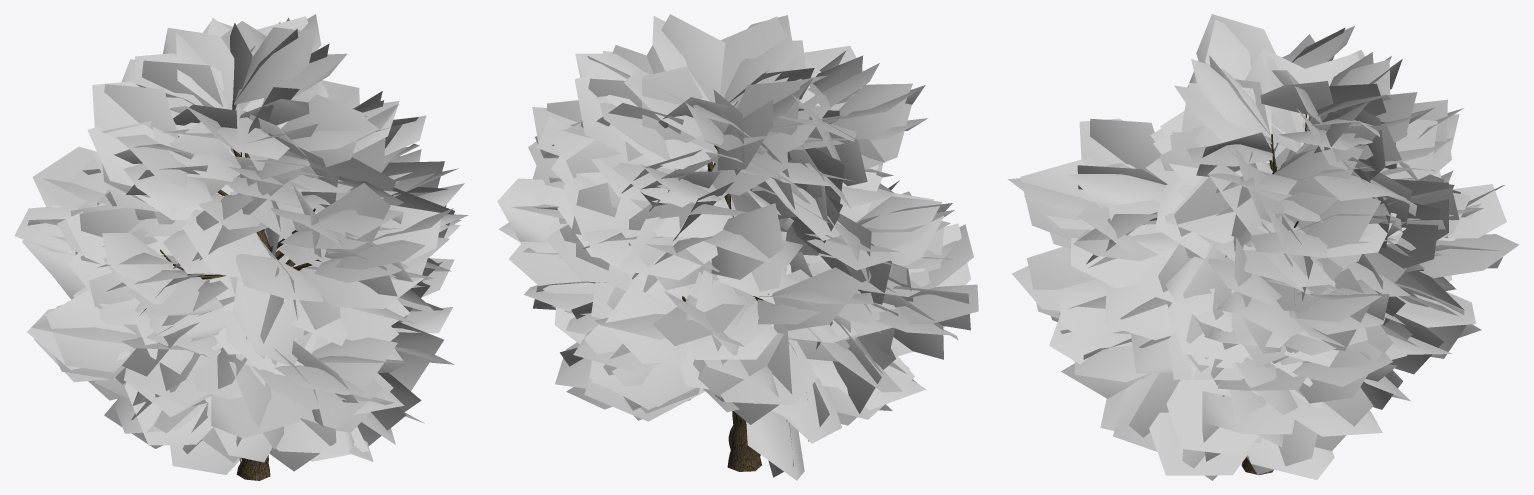
The model's file is SM_Tree01.FBX.
The picture shows the model from 3 angles, left to right: view 1: azimuth 30°, elevation 25°; view 2: azimuth 150°, elevation 25°; view 3: azimuth 270°, elevation 25°; orthographic projection. The views are drawn at different scales.
Parts seen in each view (by area): view 1: SM_Tree01; view 2: SM_Tree01; view 3: SM_Tree01.
Part boxes in pixels (left/top/right/bottom): SM_Tree01: left=14, top=14, right=468, bottom=480; SM_Tree01: left=497, top=14, right=978, bottom=480; SM_Tree01: left=1008, top=14, right=1519, bottom=480.
Bounding box in the file's own units: 2130 × 2217 × 2033.
